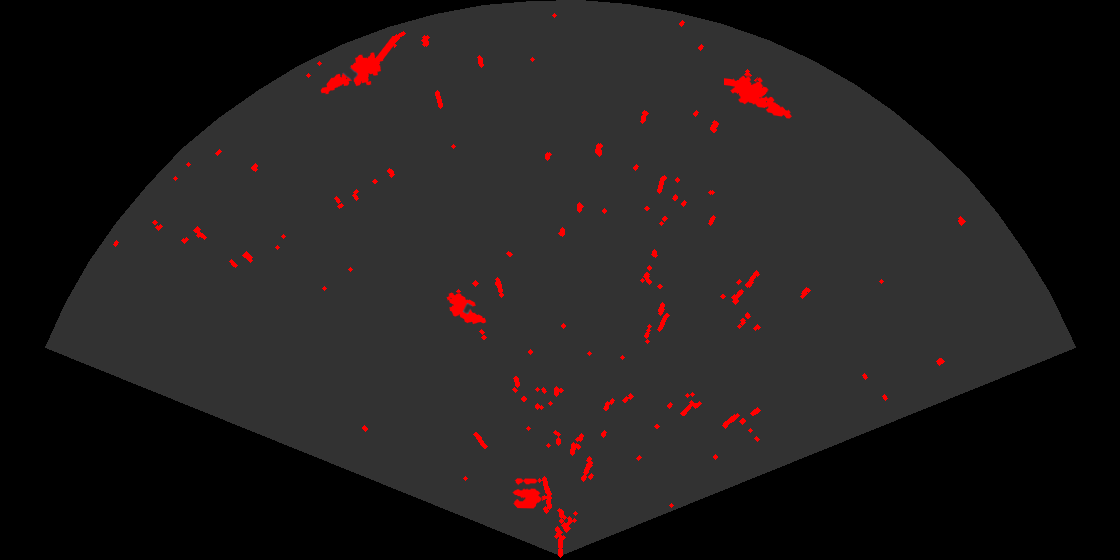AUV: (445, 291, 488, 326)
ball: (511, 477, 543, 510)
frogman: (319, 36, 394, 96), (724, 74, 793, 120)
